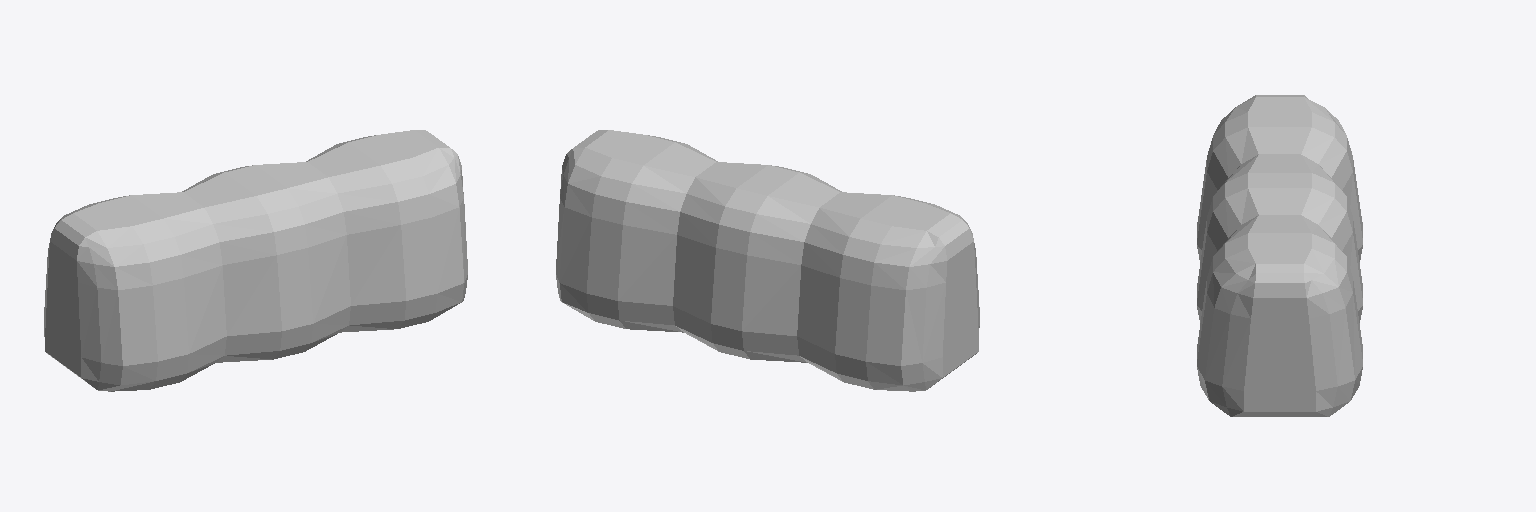
Rendered from hedge_straight_long.obj.
The picture shows the model from 3 angles: view 1: azimuth 30°, elevation 25°; view 2: azimuth 150°, elevation 25°; view 3: azimuth 270°, elevation 25°; orthographic projection.
Visible parts, largest first — view 1: hedge_straight_long; view 2: hedge_straight_long; view 3: hedge_straight_long.
Part boxes in pixels (left/top/right/bottom): hedge_straight_long: left=44, top=130, right=467, bottom=391; hedge_straight_long: left=556, top=130, right=979, bottom=391; hedge_straight_long: left=1197, top=95, right=1362, bottom=416.
Size of the model in its own units: 4 by 1.5 by 1.5.